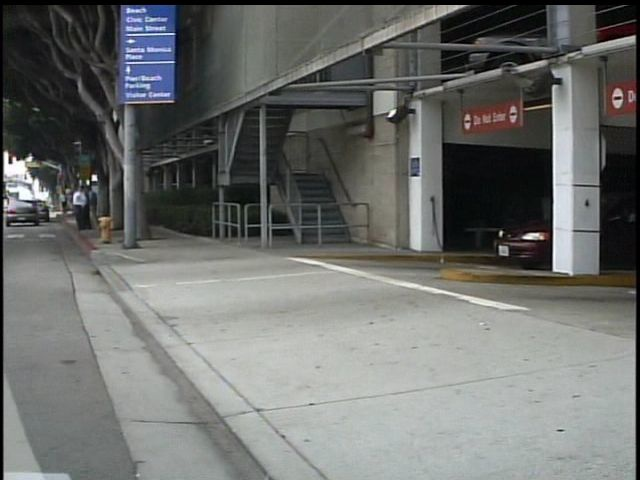person: (62, 186, 78, 220)
